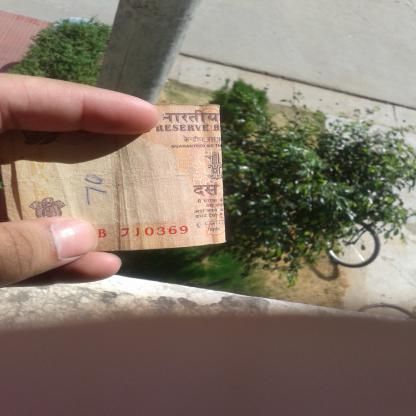Old10Front: (0, 103, 229, 254)
